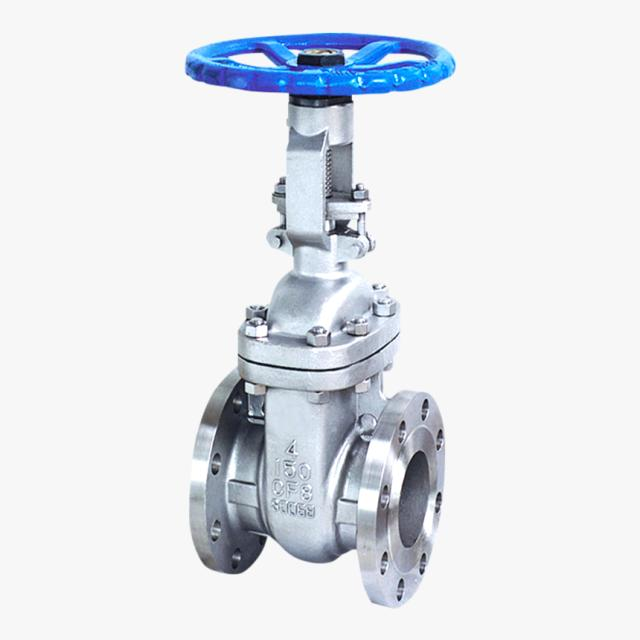Wheel Handle Valve Threaded: (150, 8, 490, 108)
